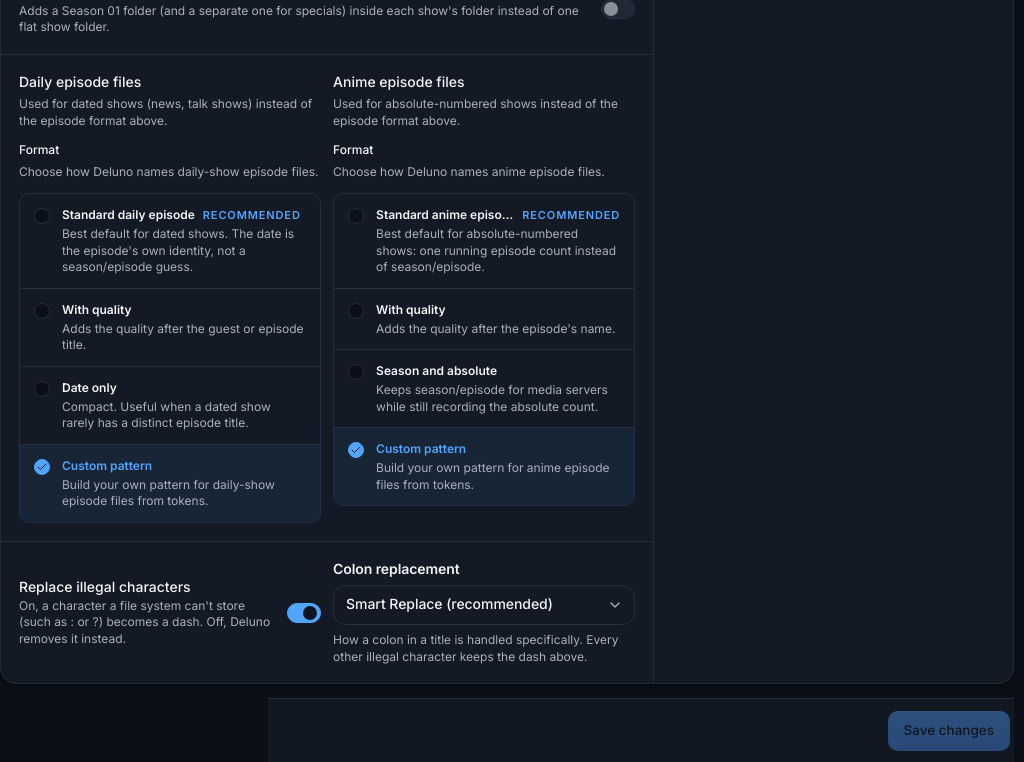
Test: Save changes on the naming page › is dimmed until something changes, then sends exactly the thirteen naming fields in one PATCH and says Saved just now
(page scrolled)
Expected: the button "Save changes" is disabled, [888,710,1010,750]
Click the switch named "Replace illegal characters" below "Replace illegal characters" at (304, 612), box [287,602,321,622]
(page scrolled)
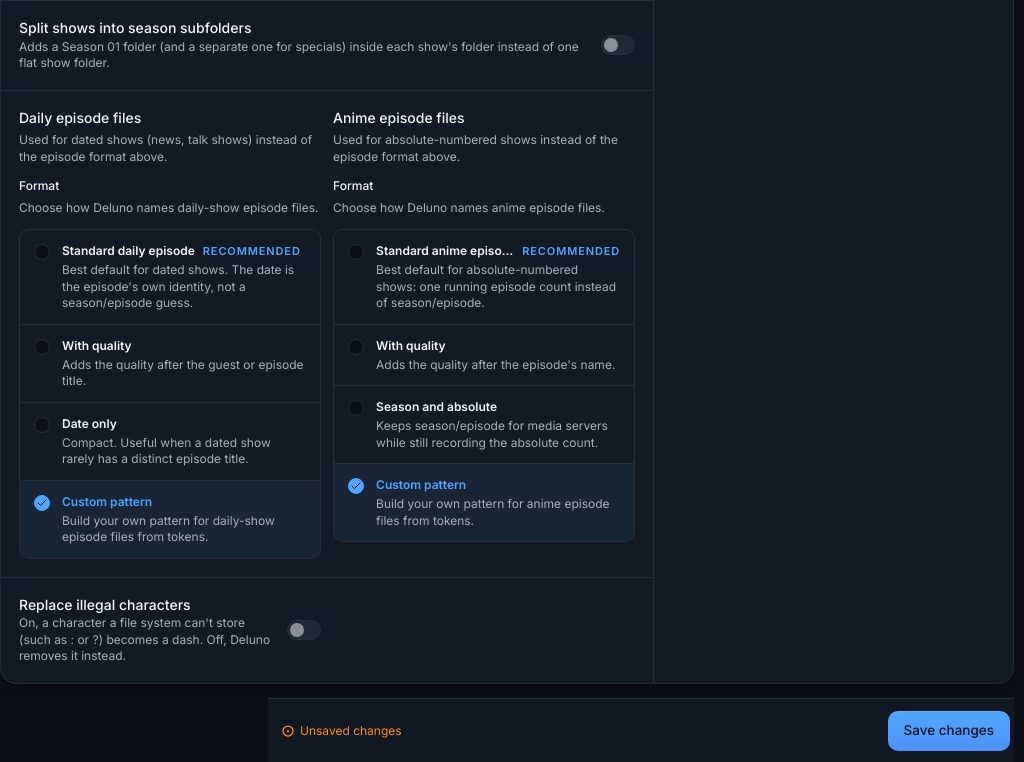
Expected: the button "Save changes" is enabled
Click the button "Save changes" at (949, 730), box [888,710,1010,750]
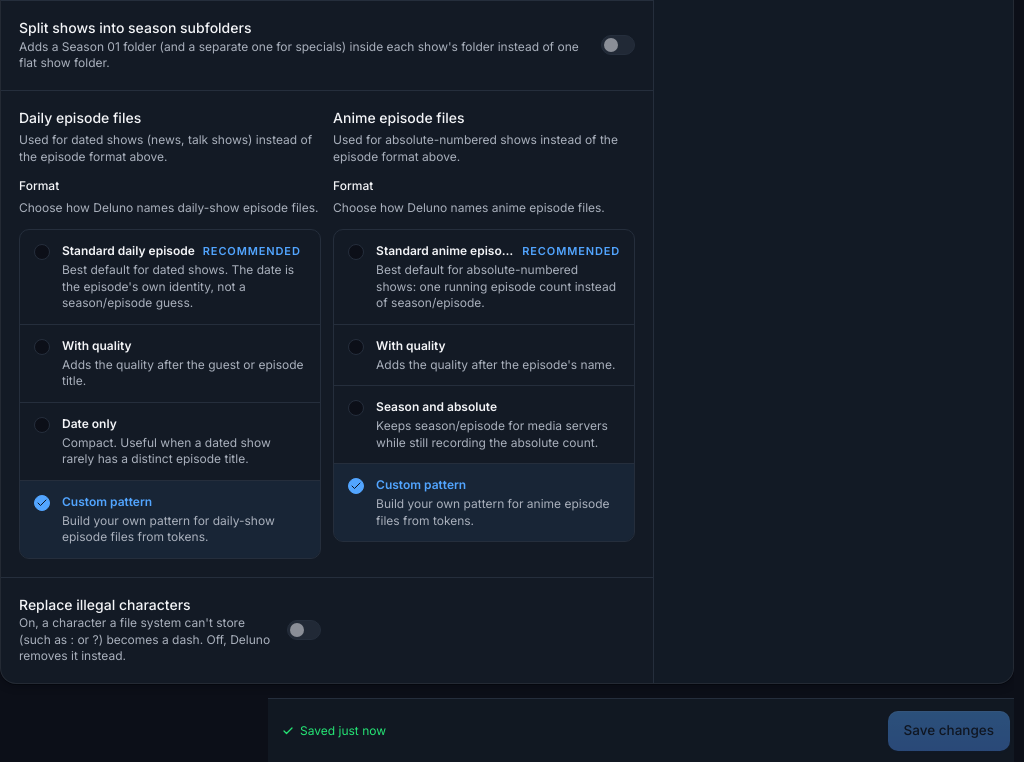
Expected: the text "Saved just now" is shown, [300,722,386,740]
Expected: the button "Save changes" is disabled, [888,710,1010,750]
